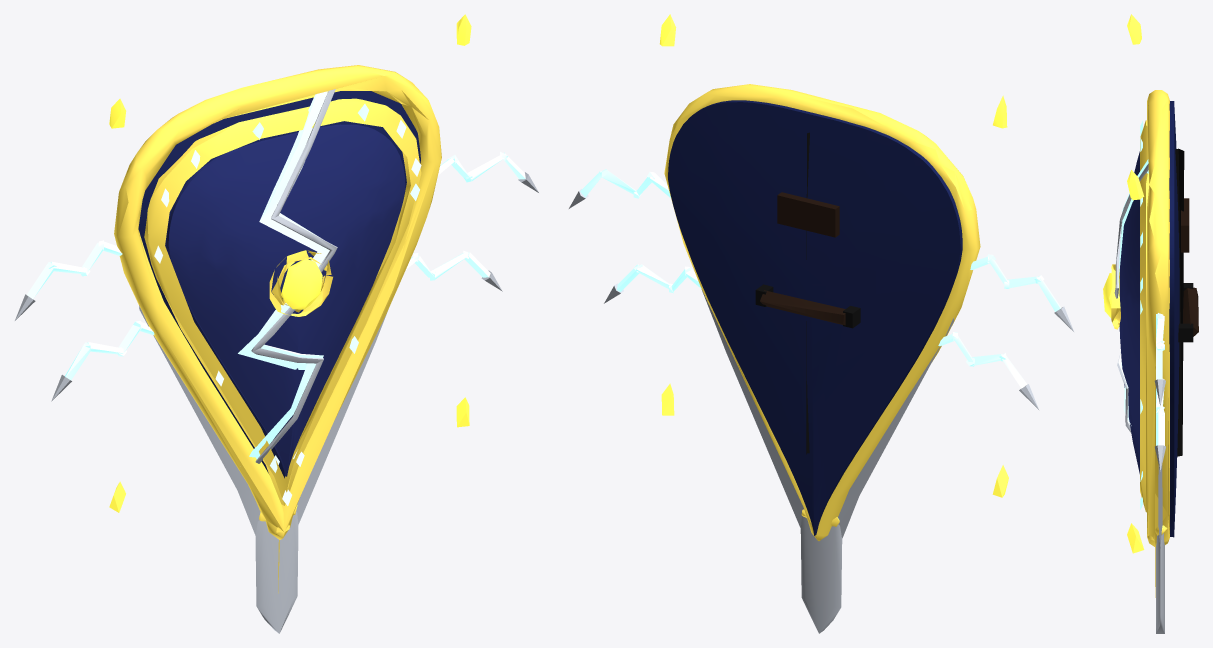
The model's file is greatshield_8.glb.
3 views of the same model, side by side, from view 1: azimuth 30°, elevation 25°; view 2: azimuth 150°, elevation 25°; view 3: azimuth 270°, elevation 25° (orthographic). The views are drawn at different scales.
Visible parts, largest first — view 1: greatshield_8; view 2: greatshield_8; view 3: greatshield_8.
Part boxes in pixels (<box>): greatshield_8: <box>15,14,538,633</box>; greatshield_8: <box>569,14,1073,633</box>; greatshield_8: <box>1103,14,1198,633</box>.
Bounding box in the file's own units: 1.22 × 1.3 × 0.2091.
